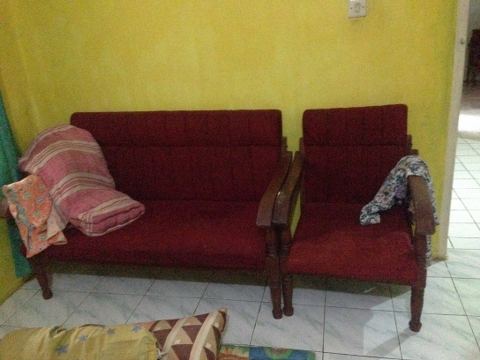kursi: (1, 111, 285, 320), (272, 103, 437, 332)
